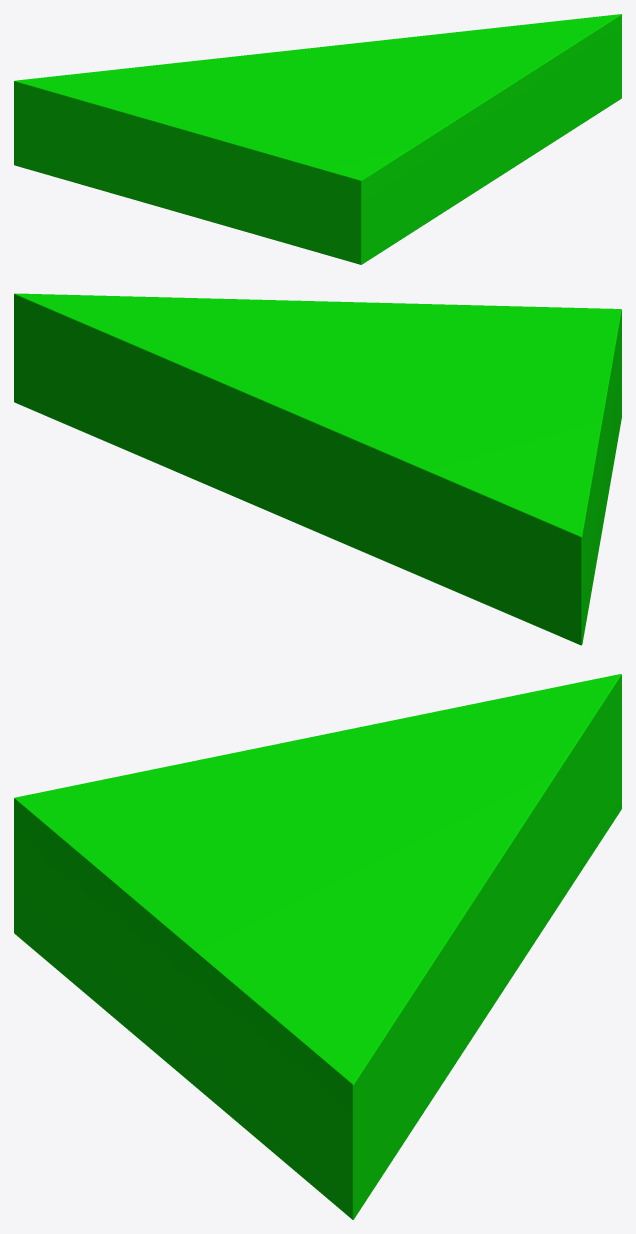
File: Obstacle_08.fbx
The picture shows the model from 3 angles, top to bottom: view 1: azimuth 30°, elevation 25°; view 2: azimuth 150°, elevation 25°; view 3: azimuth 270°, elevation 25°; orthographic projection. The views are drawn at different scales.
Parts seen in each view (by area): view 1: Obstacle_08; view 2: Obstacle_08; view 3: Obstacle_08.
Part boxes in pixels (x1,y1,x2,y2): Obstacle_08: [14, 14, 621, 264]; Obstacle_08: [14, 293, 621, 645]; Obstacle_08: [14, 674, 621, 1219].
Bounding box in the file's own units: 6.47 × 1 × 4.04.
